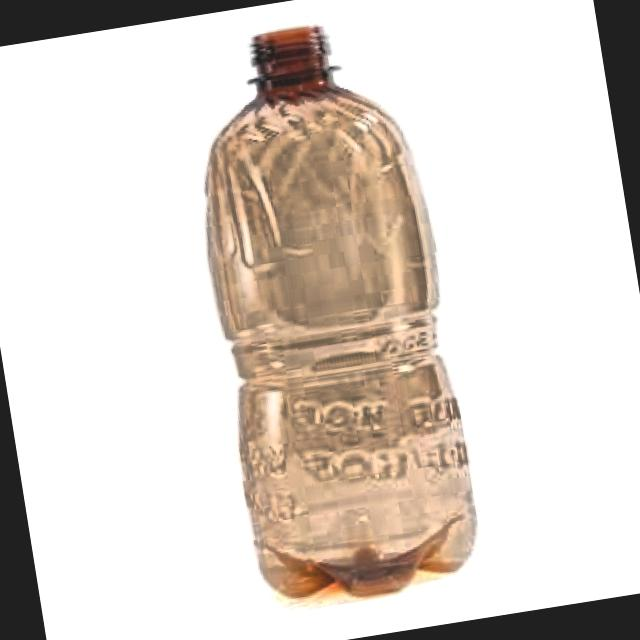plastic bottle: (207, 26, 476, 598)
